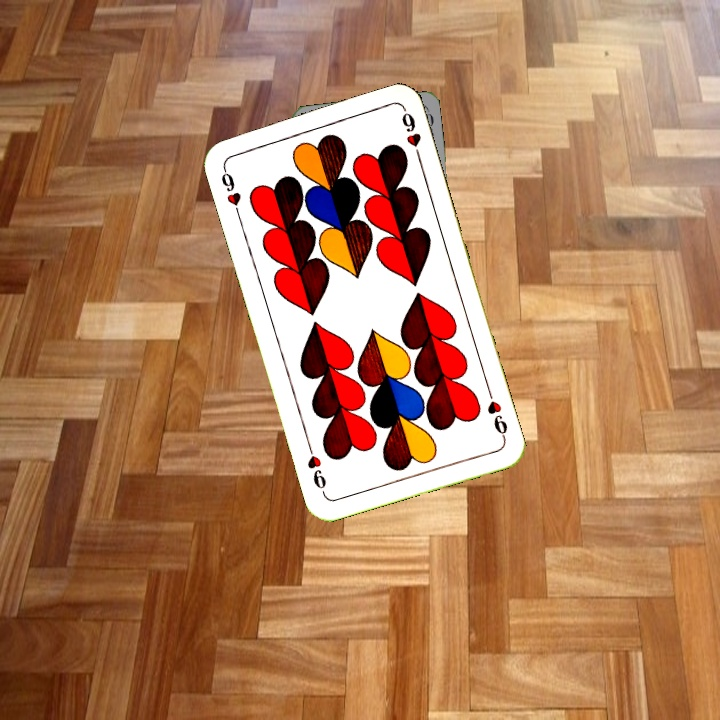H9: (483, 385, 510, 442), (217, 162, 244, 219)
